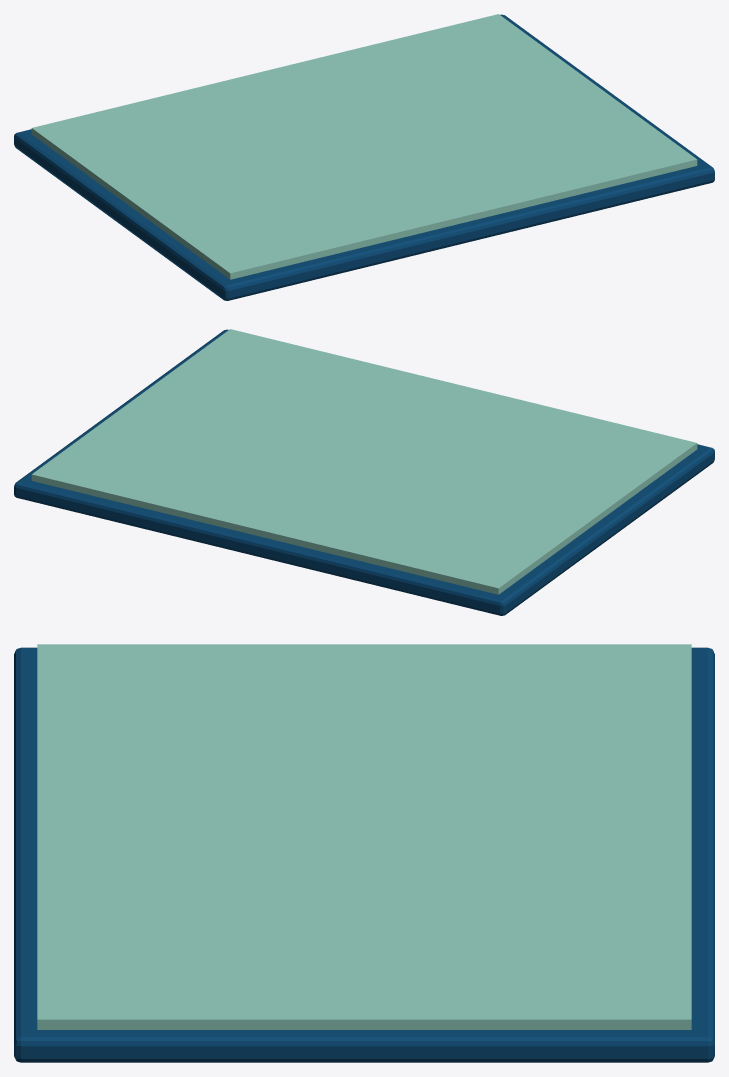
Rendered from BusanMap3D_blockout.glb.
3 renders of one model, top to bottom at view 1: azimuth 30°, elevation 25°; view 2: azimuth 150°, elevation 25°; view 3: azimuth 270°, elevation 25°, orthographic. The views are drawn at different scales.
Visible parts, largest first — view 1: ENV23_BusanMap3D_TerrainPlaceholder_L0, ENV23_BusanMap3D_MapCarrier_L0; view 2: ENV23_BusanMap3D_TerrainPlaceholder_L0, ENV23_BusanMap3D_MapCarrier_L0; view 3: ENV23_BusanMap3D_TerrainPlaceholder_L0, ENV23_BusanMap3D_MapCarrier_L0.
Boxes of the visible parts, x1,y1,x2,y2 form: ENV23_BusanMap3D_TerrainPlaceholder_L0: (31,14,697,279); ENV23_BusanMap3D_MapCarrier_L0: (14,14,714,300); ENV23_BusanMap3D_TerrainPlaceholder_L0: (31,329,697,594); ENV23_BusanMap3D_MapCarrier_L0: (14,329,714,615); ENV23_BusanMap3D_TerrainPlaceholder_L0: (37,644,691,1029); ENV23_BusanMap3D_MapCarrier_L0: (14,647,714,1062).
Size of the model in its own units: 4 by 0.17 by 3.
